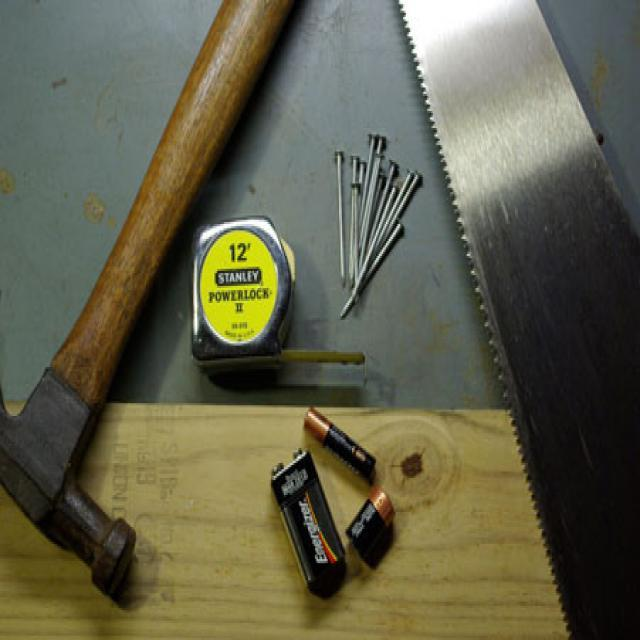hammer: (0, 74, 233, 606)
